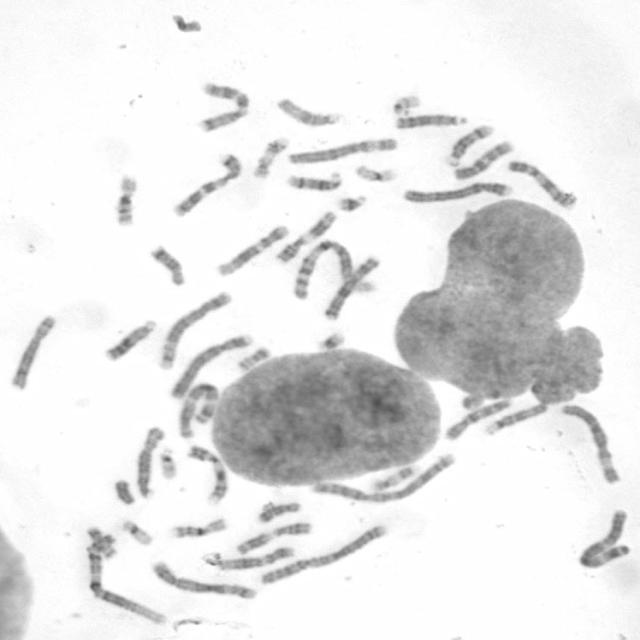A1: (81, 526, 170, 627), (289, 235, 381, 300)
A2: (308, 448, 457, 506), (256, 522, 390, 586)
A3: (574, 504, 632, 570), (172, 378, 222, 440)
B4: (164, 328, 257, 400), (398, 177, 515, 205)
B5: (154, 286, 234, 371), (147, 557, 259, 601)
C10: (439, 396, 512, 442), (451, 136, 518, 181)
C11: (269, 206, 338, 265), (230, 518, 313, 555)
C12: (210, 220, 291, 278), (215, 543, 296, 572)
C6: (556, 399, 623, 485), (283, 133, 401, 166)
C7: (167, 149, 244, 218), (194, 78, 252, 134)
C8: (6, 312, 58, 391), (131, 422, 167, 498)
C9: (503, 155, 580, 210), (183, 440, 232, 505)
D13: (99, 314, 160, 363), (390, 109, 470, 131)
D14: (442, 121, 494, 167), (280, 165, 344, 192)
D15: (480, 398, 551, 437), (272, 93, 344, 128)
E16: (165, 513, 230, 539), (110, 171, 140, 227)
E17: (248, 132, 291, 180), (365, 459, 420, 493)
E18: (145, 240, 188, 288), (253, 497, 304, 523)
F19: (116, 514, 156, 547), (351, 160, 401, 183)
F20: (82, 522, 119, 560), (233, 342, 273, 372)
G21: (332, 190, 369, 213), (312, 327, 346, 352)
G22: (154, 442, 179, 480), (388, 90, 422, 116)
X: (320, 253, 382, 322)
Y: (108, 474, 138, 506)
